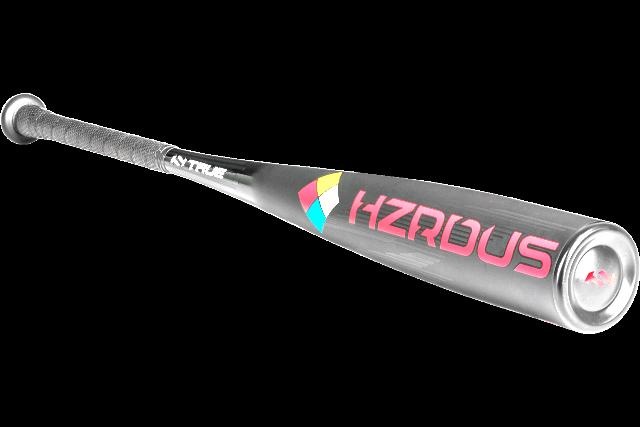baseball bat: (4, 92, 640, 340)
